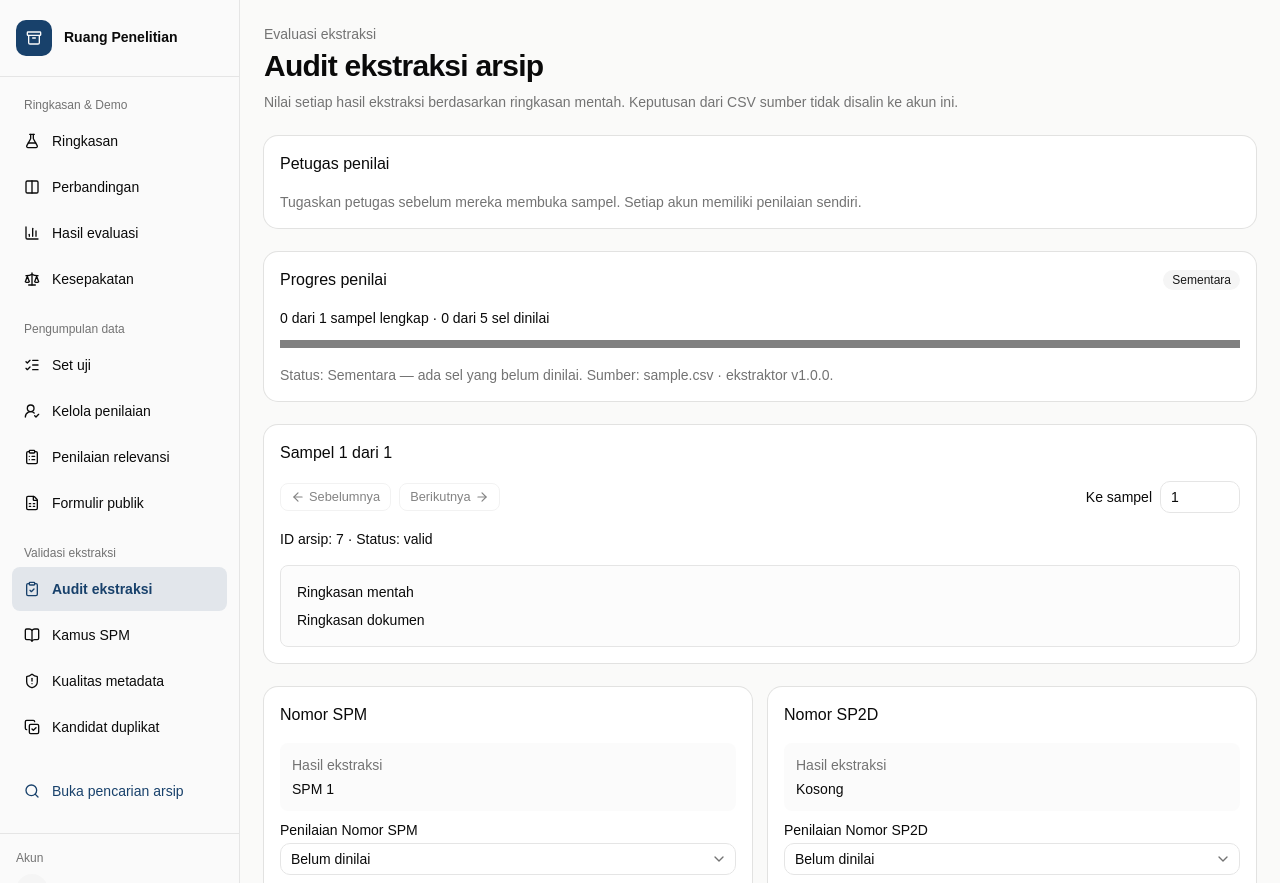
it: audit ekstraksi dan kamus SPM › menyimpan verdict, menampilkan progres sementara, dan belum menawarkan ekspor
The image size is (1280, 883).
Check: the text "0 dari 1 sampel lengkap · 0 dari 5 sel dinilai" is shown, box left=280, top=310, right=549, bottom=326
Click the dropdown named "Penilaian Nomor SPM".
click(331, 859)  # box left=280, top=843, right=736, bottom=875
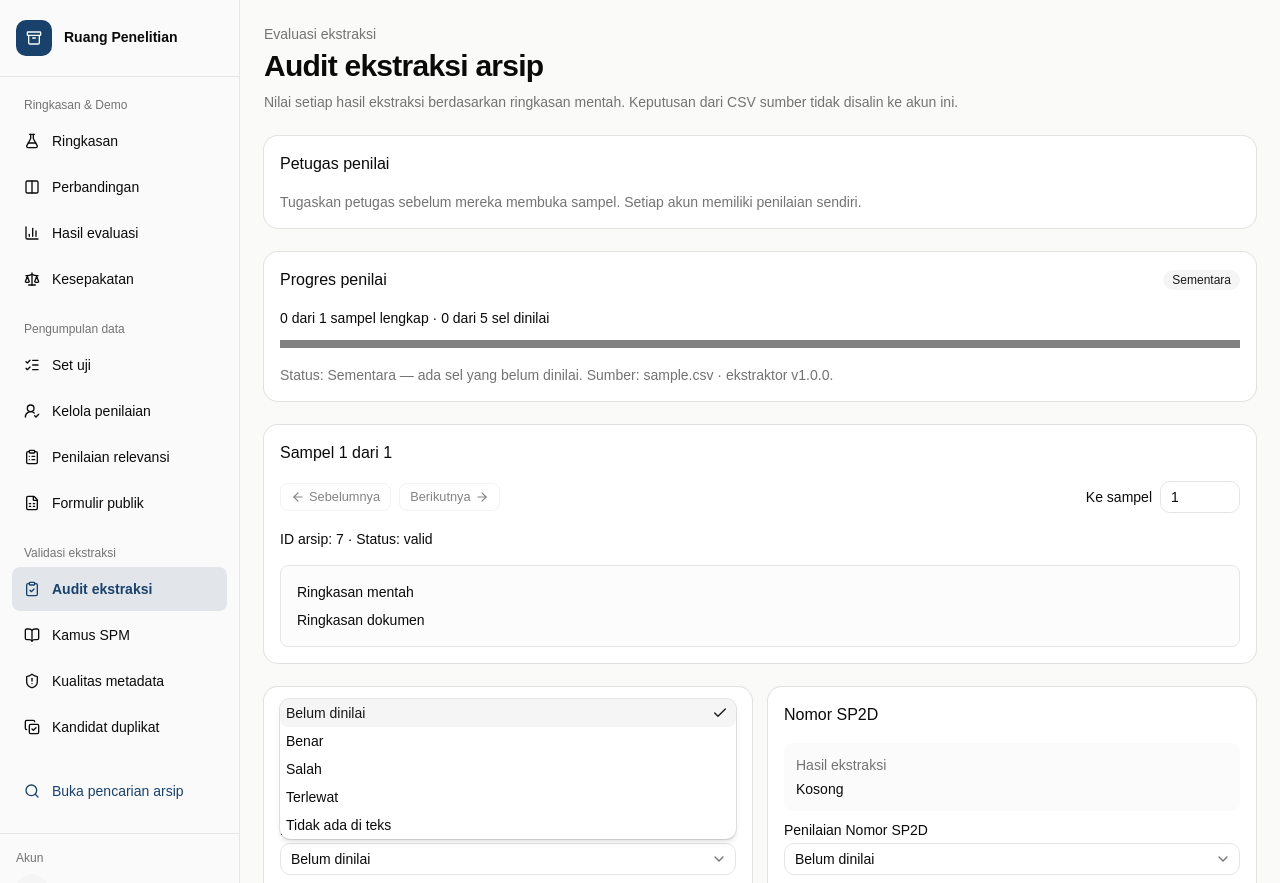
Click the option "Benar".
click(305, 741)  # box left=286, top=733, right=323, bottom=749
(page scrolled)
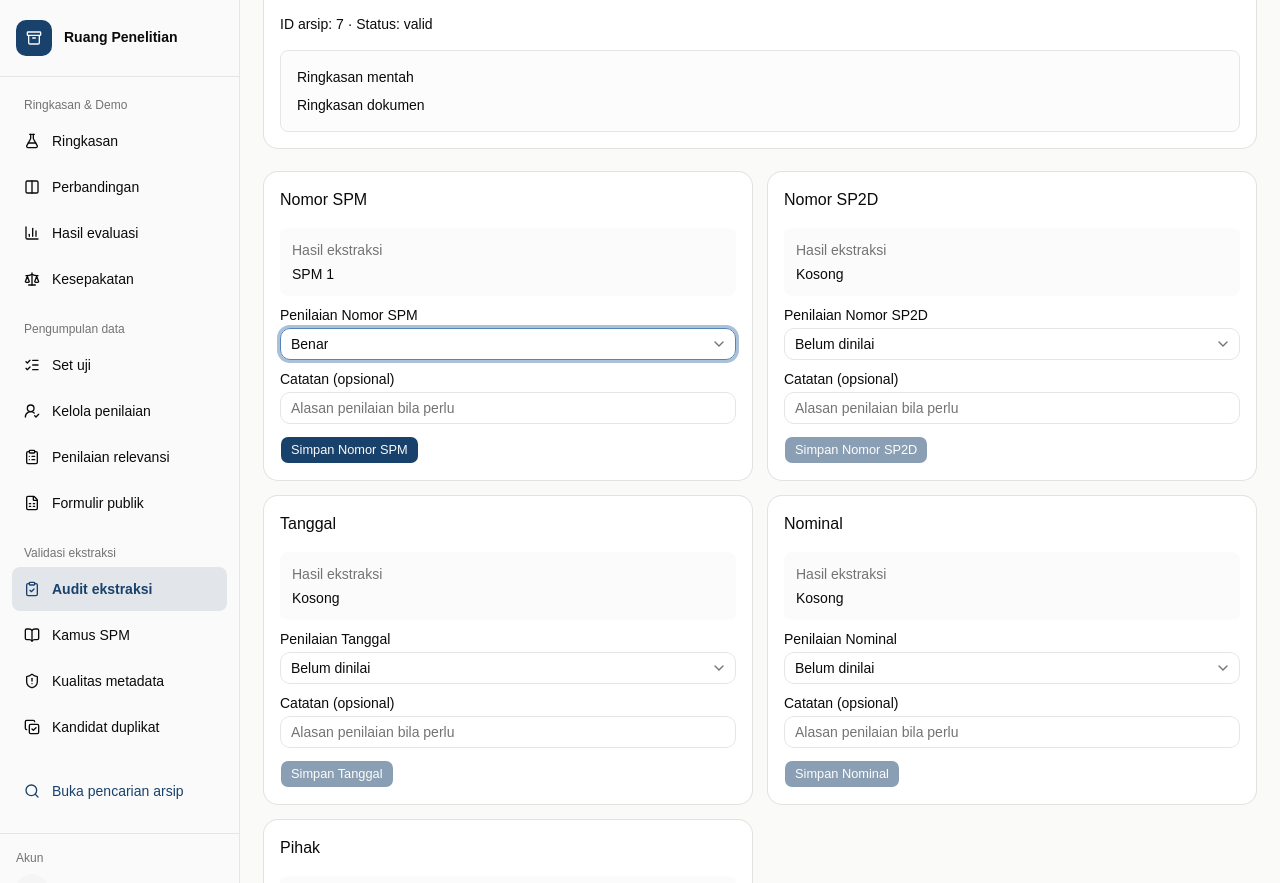
Click the button "Simpan Nomor SPM".
click(349, 450)  # box left=280, top=436, right=419, bottom=464
(page scrolled)
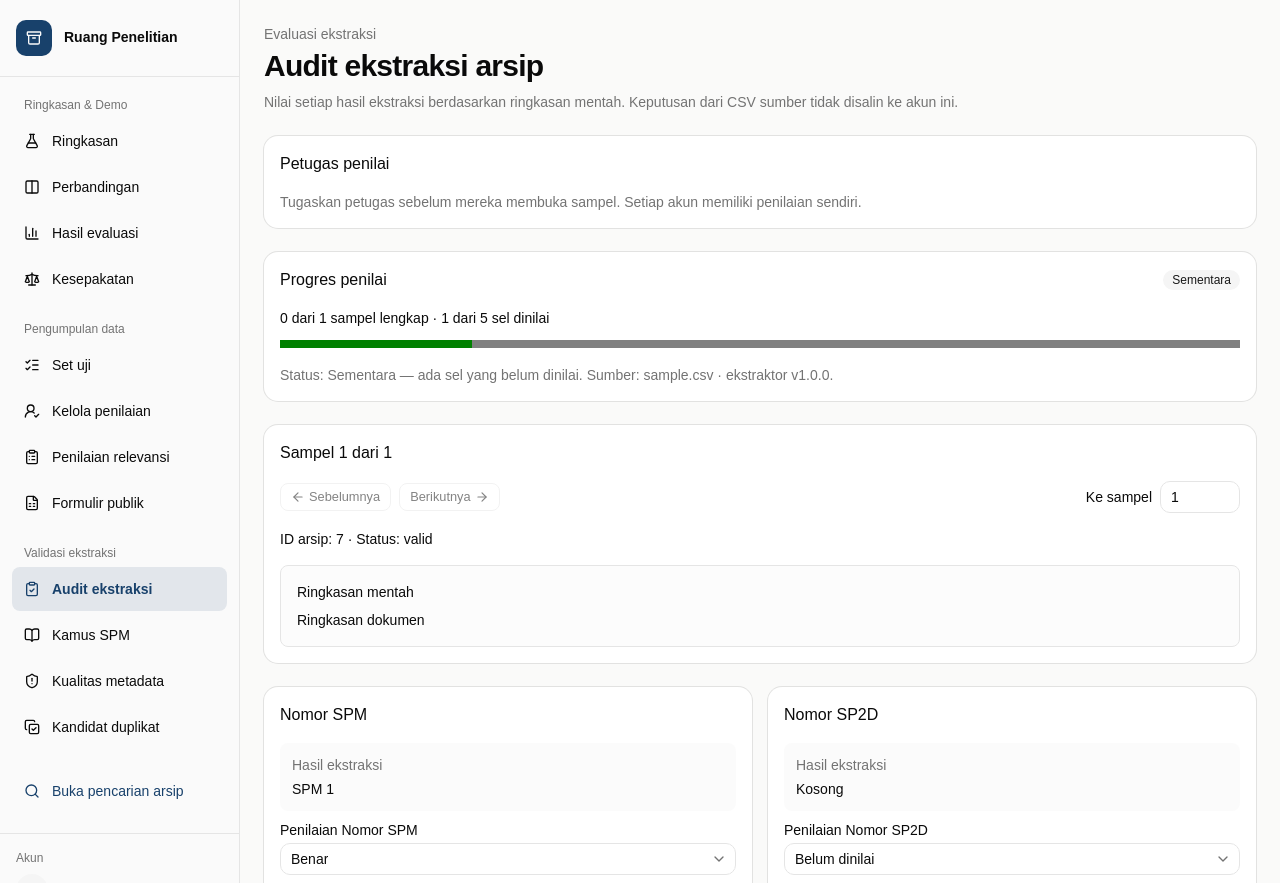
Check: the text "0 dari 1 sampel lengkap · 1 dari 5 sel dinilai" is shown, box left=280, top=310, right=549, bottom=326
